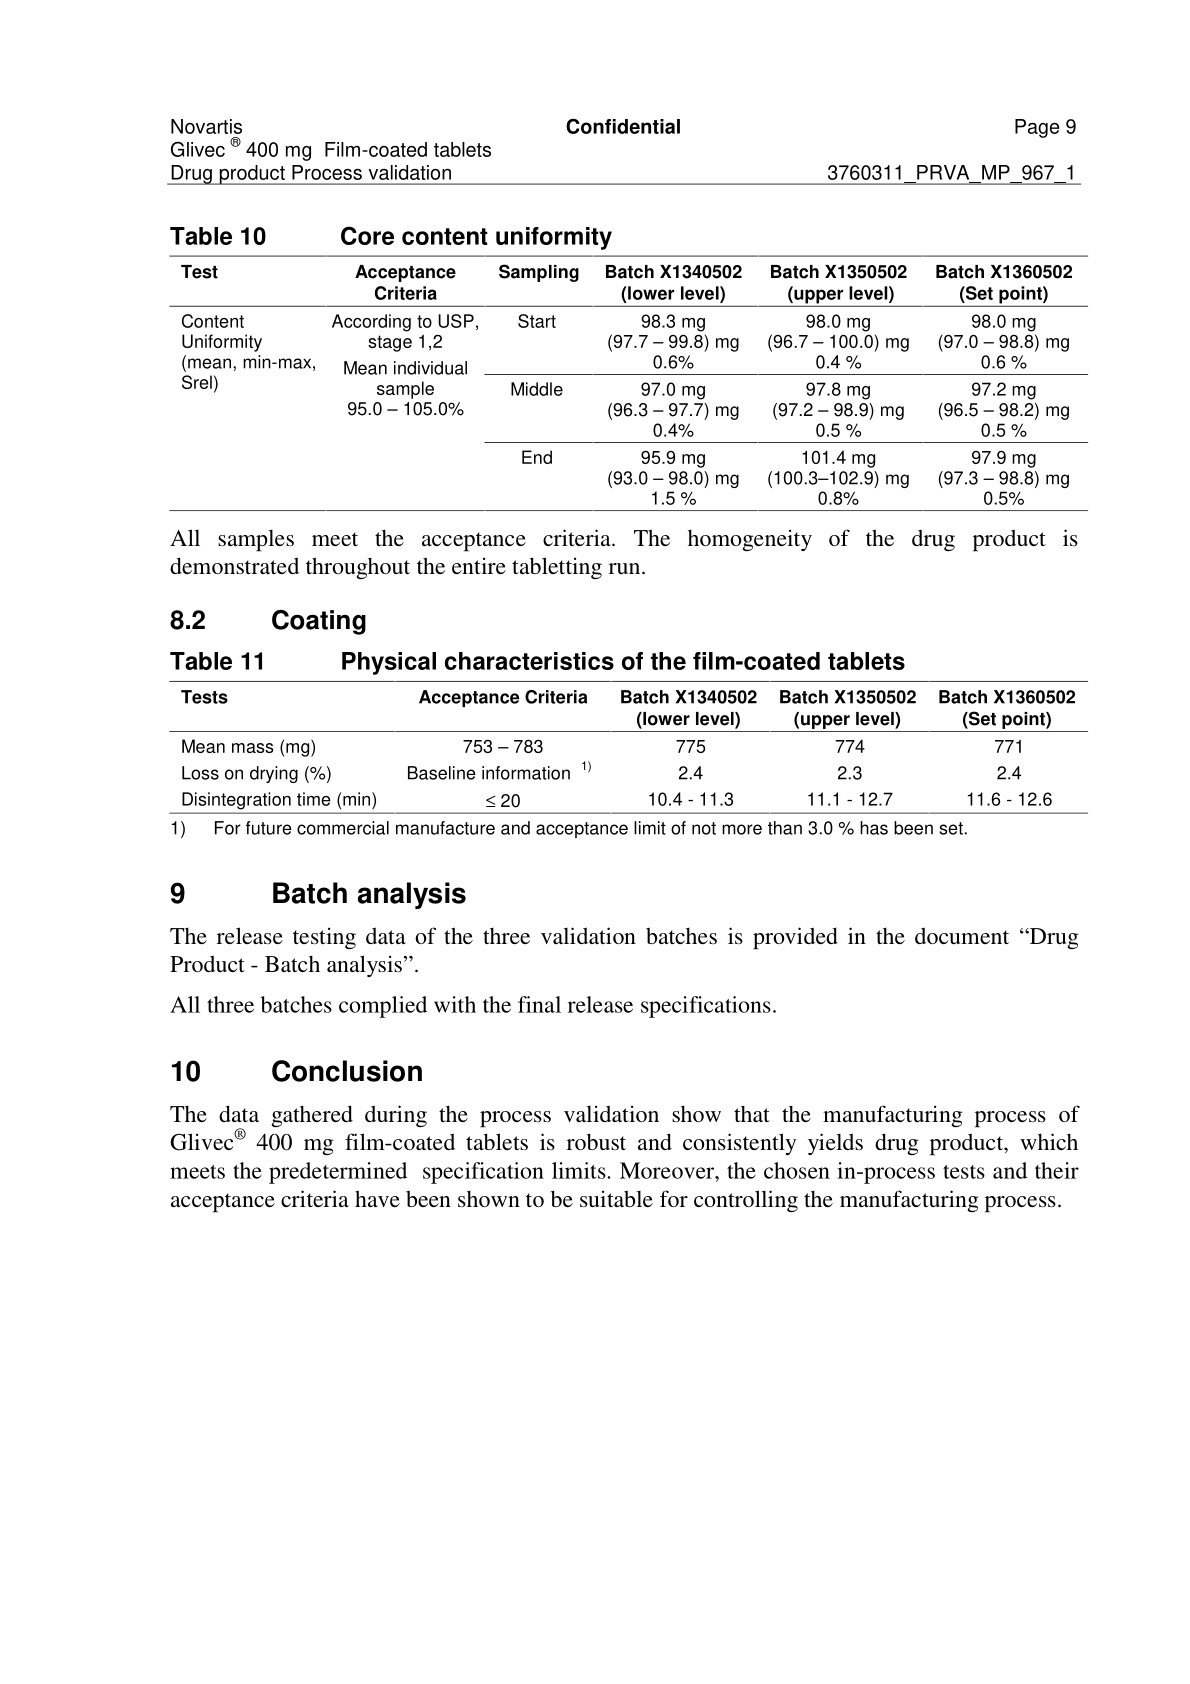partial_lined: (169, 254, 1090, 515), (169, 678, 1091, 818)
